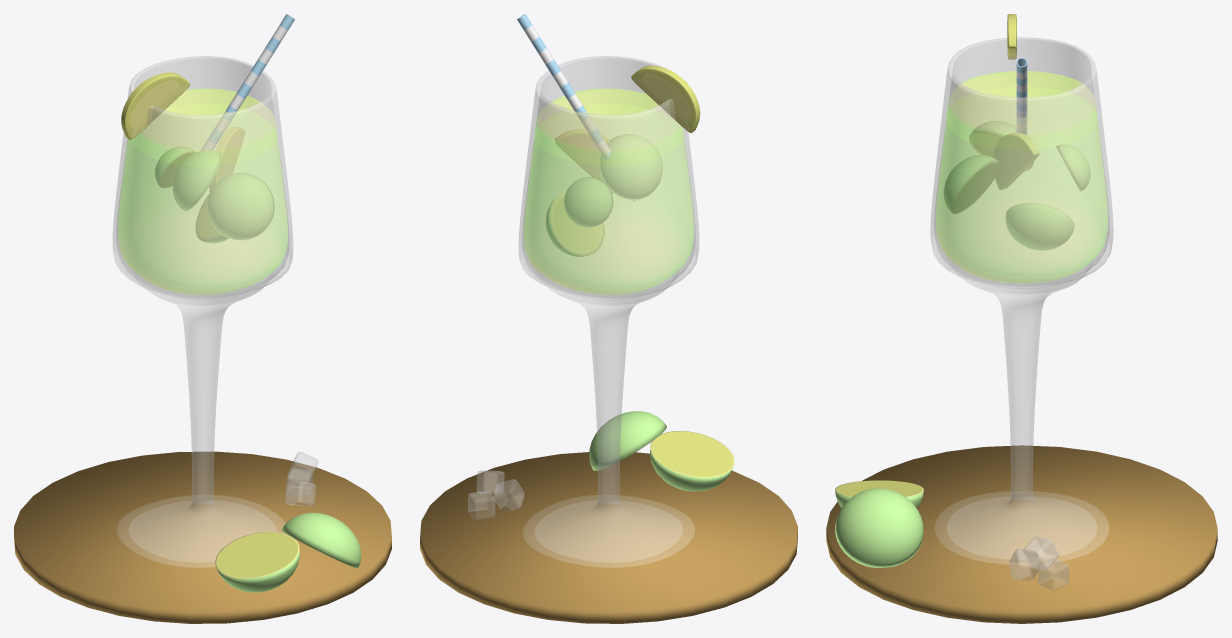
The model's file is lemonade__glass.glb.
3 renders of one model, left to right at view 1: azimuth 30°, elevation 25°; view 2: azimuth 150°, elevation 25°; view 3: azimuth 270°, elevation 25°, orthographic. The views are drawn at different scales.
Parts seen in each view (by area): view 1: Cube_0, Circle_2, Cube.001_3, Sphere.001_6, Sphere.005_10, Sphere_5, Plane_1, Sphere.004_9, Cylinder_4, Plane.001_12, Sphere.003_16, Cube.003_8 (+2 smaller); view 2: Cube_0, Circle_2, Cube.001_3, Sphere.001_6, Sphere.004_9, Sphere_5, Plane_1, Sphere.002_15, Sphere.003_16, Cylinder_4, Plane.001_12, Cube.003_8 (+2 smaller); view 3: Cube_0, Circle_2, Cube.001_3, Sphere_5, Sphere.002_15, Sphere.005_10, Plane.001_12, Sphere.001_6, Sphere.004_9, Sphere.003_16, Cylinder_4, Cube.004_17 (+2 smaller).
Boxes of the visible parts, x1,y1,x2,y2 form: Cube_0: [113, 56, 292, 567]; Circle_2: [14, 451, 391, 623]; Cube.001_3: [118, 88, 287, 294]; Sphere.001_6: [215, 532, 299, 592]; Sphere.005_10: [207, 173, 274, 240]; Sphere_5: [281, 512, 361, 568]; Plane_1: [121, 72, 190, 139]; Sphere.004_9: [173, 150, 220, 210]; Cylinder_4: [201, 14, 294, 150]; Plane.001_12: [209, 127, 244, 192]; Sphere.003_16: [155, 146, 195, 187]; Cube.003_8: [285, 482, 315, 506]; Cube_0: [519, 56, 698, 567]; Circle_2: [420, 452, 797, 623]; Cube.001_3: [524, 88, 693, 294]; Sphere.001_6: [649, 431, 734, 491]; Sphere.004_9: [599, 134, 662, 200]; Sphere_5: [589, 411, 666, 470]; Plane_1: [631, 65, 700, 132]; Sphere.002_15: [546, 192, 604, 256]; Sphere.003_16: [564, 177, 612, 227]; Cylinder_4: [517, 14, 610, 158]; Plane.001_12: [555, 129, 612, 193]; Cube.003_8: [493, 479, 524, 510]; Cube_0: [930, 37, 1113, 564]; Circle_2: [826, 445, 1217, 623]; Cube.001_3: [936, 71, 1107, 282]; Sphere_5: [835, 488, 923, 567]; Sphere.002_15: [1006, 203, 1074, 250]; Sphere.005_10: [944, 155, 997, 213]; Plane.001_12: [993, 133, 1039, 189]; Sphere.001_6: [835, 480, 923, 508]; Sphere.004_9: [969, 121, 1033, 170]; Sphere.003_16: [1056, 144, 1090, 191]; Cylinder_4: [1016, 58, 1027, 134]; Cube.004_17: [1023, 537, 1058, 569].
Bounding box in the file's own units: 4.3 × 6.38 × 4.3.
